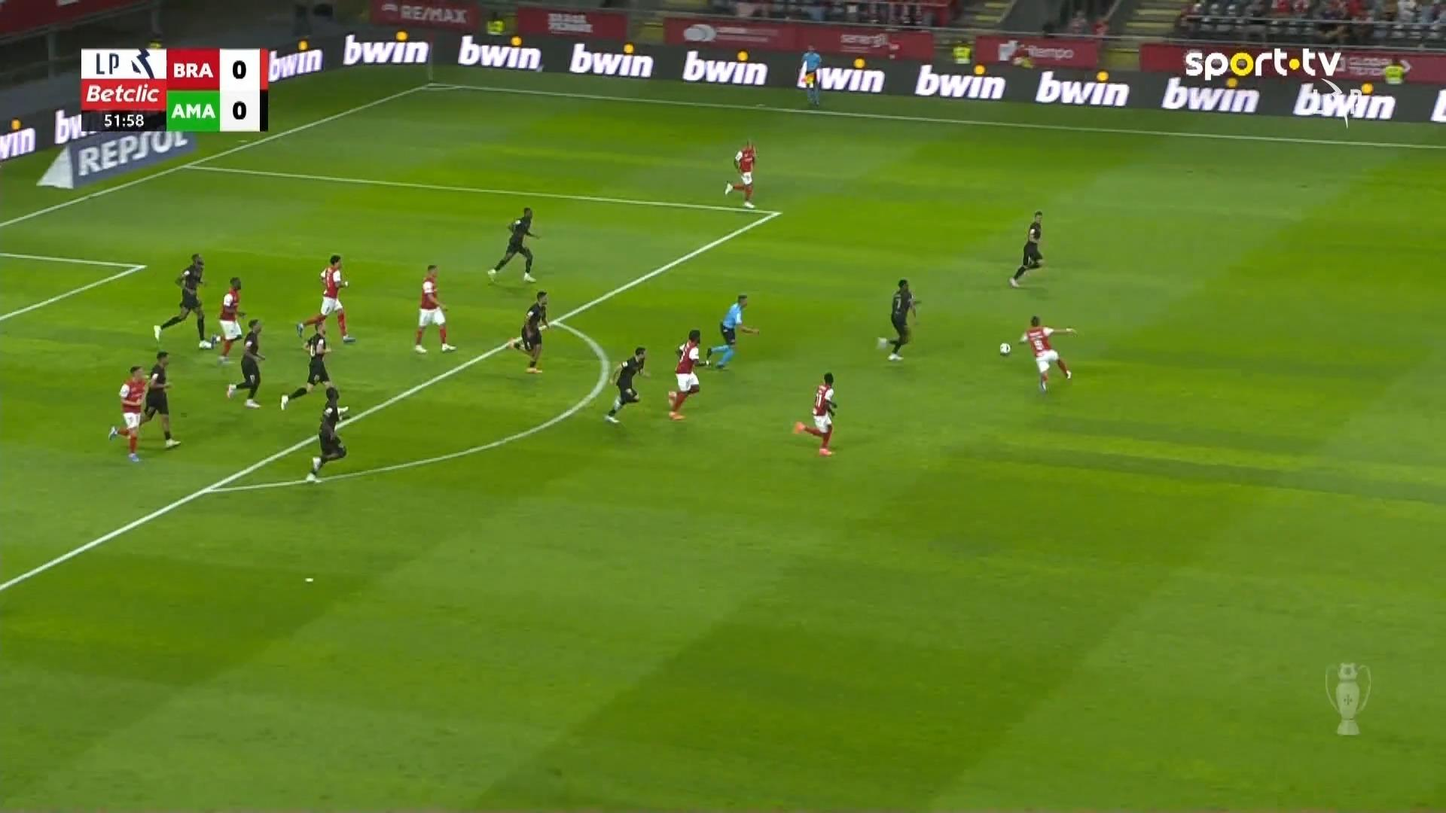ball: (999, 343, 1010, 355), (210, 334, 221, 344)
player: (152, 252, 212, 349), (279, 319, 342, 411), (296, 254, 355, 343), (1018, 314, 1076, 392), (304, 386, 349, 483), (138, 350, 182, 449), (486, 206, 540, 284), (107, 364, 149, 462), (413, 263, 456, 353), (792, 371, 837, 456), (505, 290, 551, 373), (225, 318, 266, 408), (603, 346, 648, 425), (667, 329, 704, 420), (880, 278, 920, 361), (211, 276, 246, 364), (1008, 209, 1045, 288), (723, 139, 757, 209)
referee: (703, 292, 759, 370), (796, 43, 822, 107)
